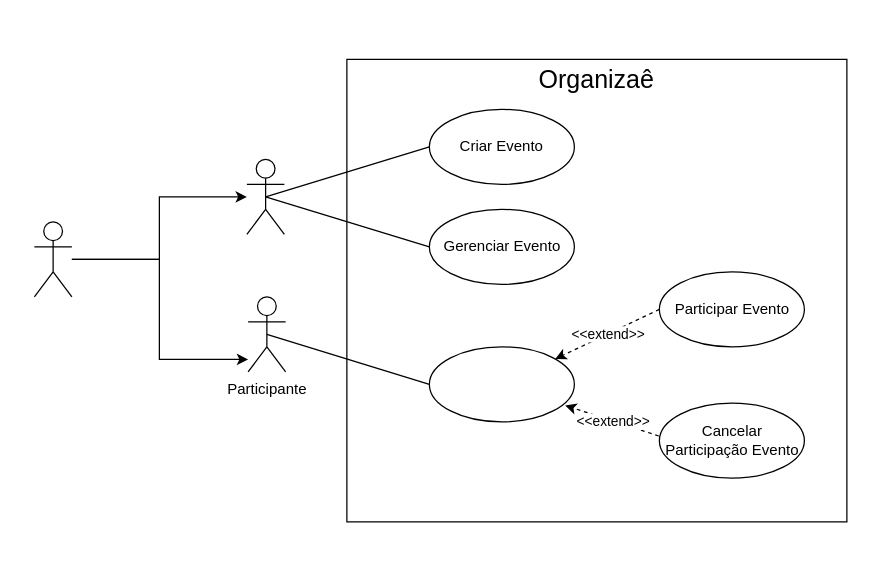
Image size: 893x568. Some labels were removed from this diagram. The box of each missing label's shape, as (x1, y1, x2, y2) in pixels:
Organizador: (246, 158, 284, 234)
Usuário: (33, 221, 72, 297)
Visualizar Evento: (428, 346, 574, 422)
